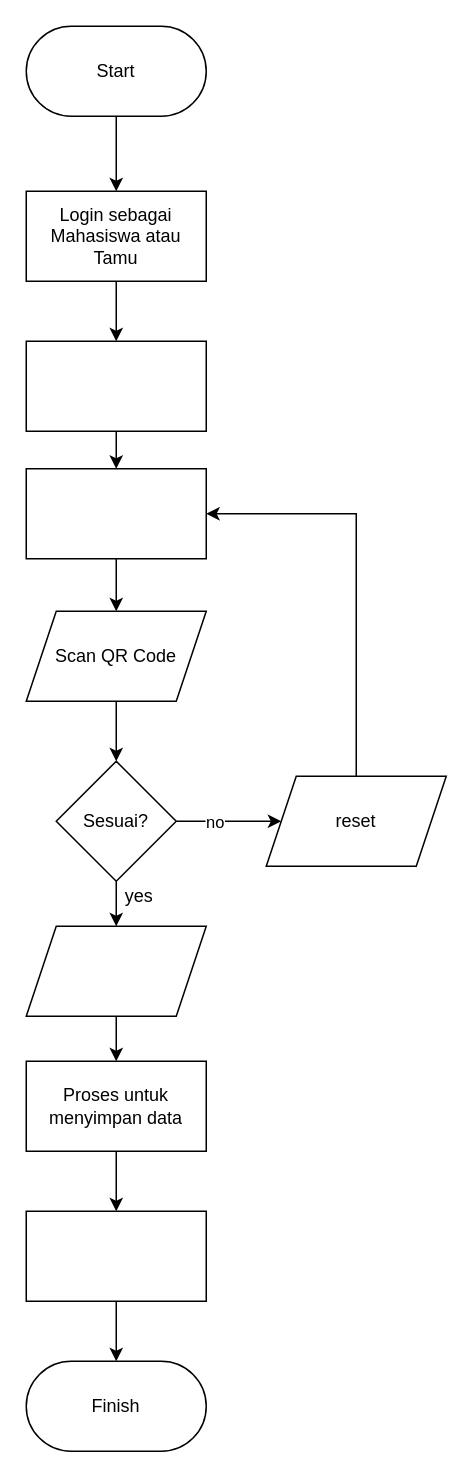
The diagram is 473 pixels wide and 1478 high, and some of its shapes have lost their labels. The shapes that lost their labels are listed below. From the top down, each one's centre as x and y in pixels, then its label:
the point at 115,385: Klik button "Daftar Pertemuan"
the point at 115,513: Scan Qr Page
the point at 115,970: Submit
the point at 115,1255: Dashboard Page
